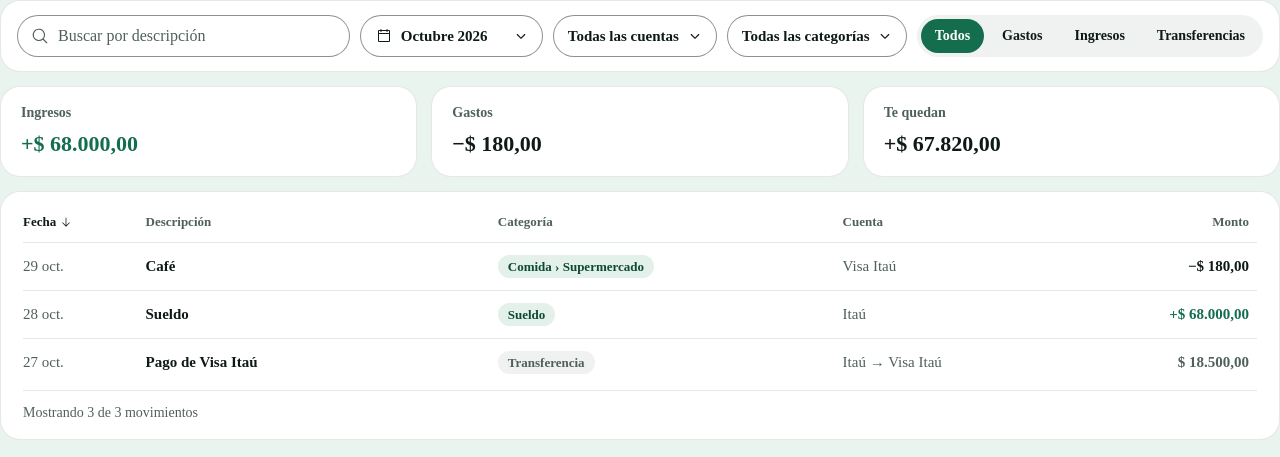
Test: the search › says there is nothing for the search, with a way to clear it, and empties the field with it
Expected: the table is shown, [23,202,1257,386]
Type "zzz" into the search field labelled "Buscar por descripción" at [183, 36], box [17,15,350,57]
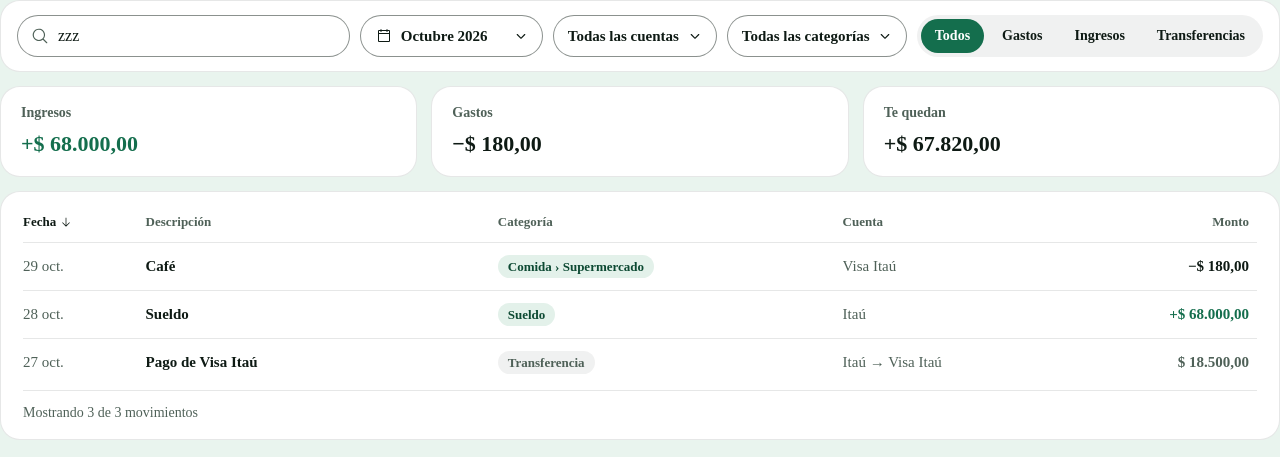
Submit the form named "Buscar por descripción", box [17,15,350,57]
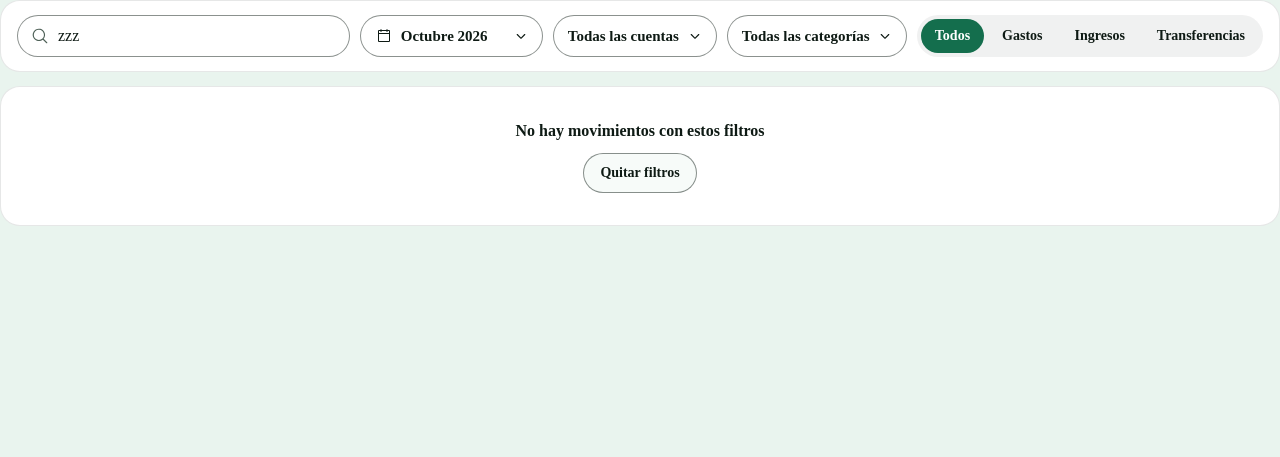
Expected: the heading "No hay movimientos con estos filtros" is shown, [516,119,764,143]
Click the button "Quitar filtros" at [640, 173], box [583,153,697,193]
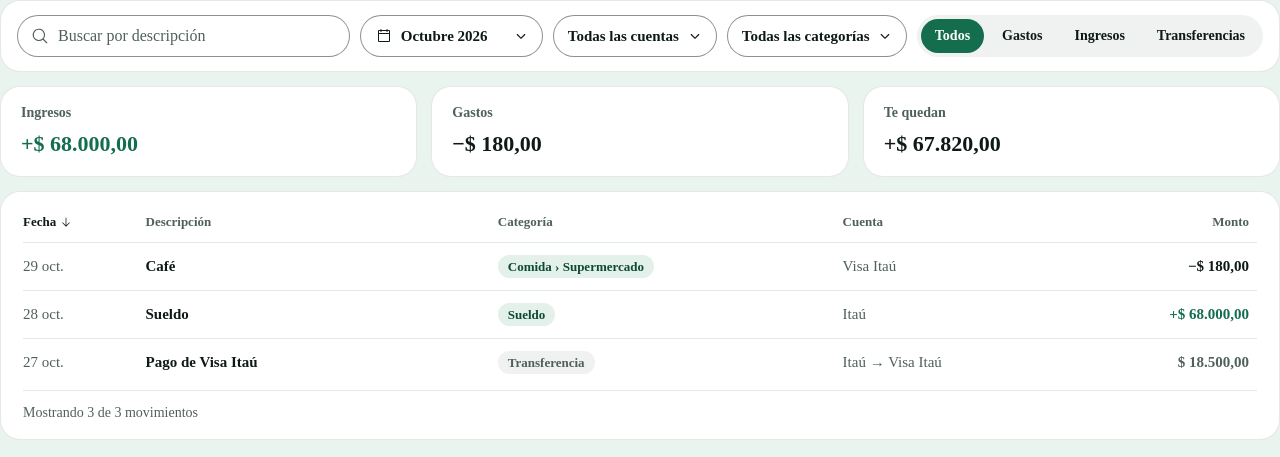
Expected: the search field labelled "Buscar por descripción" is empty, [17,15,350,57]
Expected: the table is shown, [23,202,1257,386]
